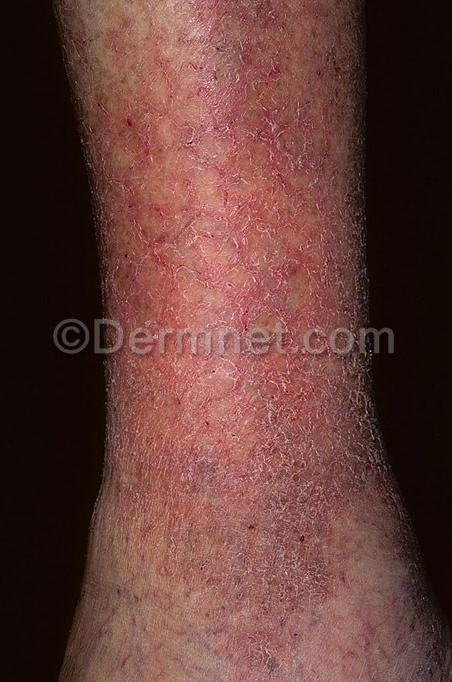Eritema 2: (57, 0, 397, 513)
xerosis 2: (84, 10, 397, 677)
